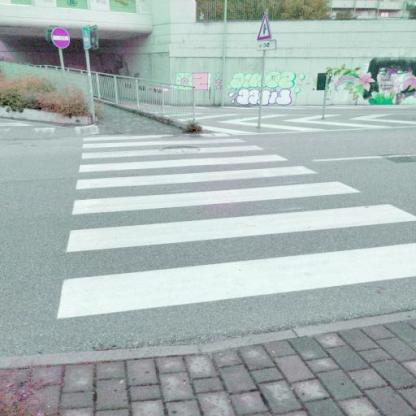crosswalk: (62, 178, 415, 257), (76, 133, 276, 161)
